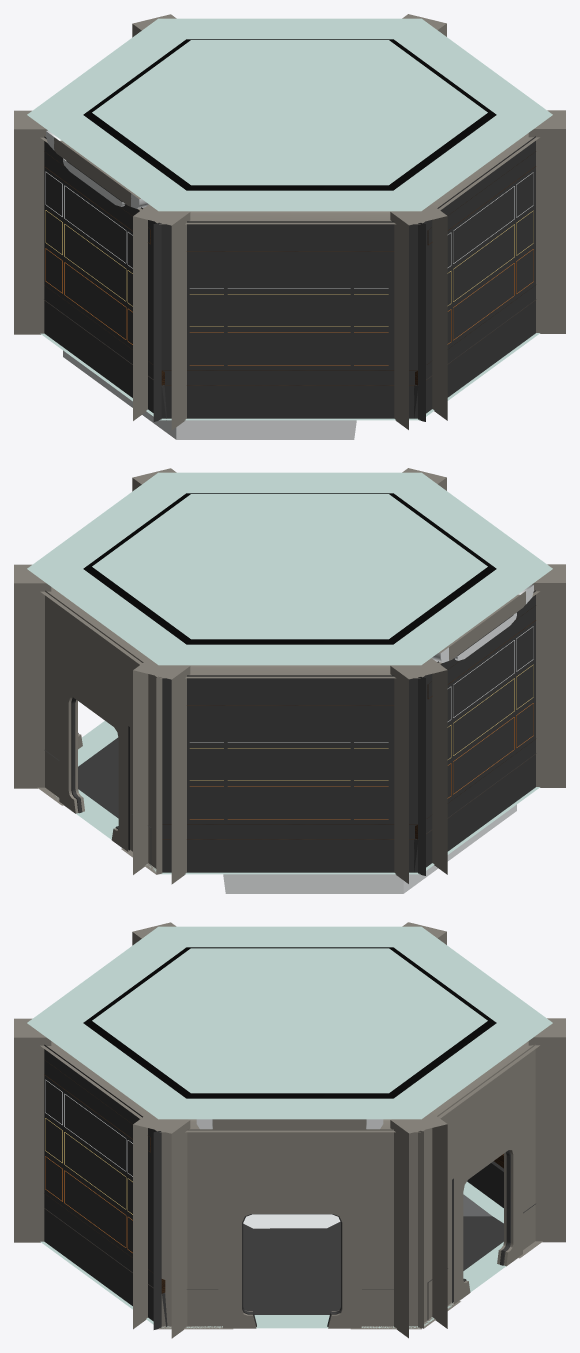
Rendered from Room02.fbx.
3 views of the same model, one above another, from view 1: azimuth 30°, elevation 25°; view 2: azimuth 150°, elevation 25°; view 3: azimuth 270°, elevation 25° (orthographic).
Parts seen in each view (by area): view 1: RoomBase02, Wall02_2, Wall02_4, Wall02_1, Ceiling02, Ceiling02_Add; view 2: RoomBase02, Wall02_3, Wall02_1, WallDoor02_2, Ceiling02, Ceiling02_Add; view 3: RoomBase02, WallDoor02_1, Wall02_4, WallDoor02_2, Ceiling02, Ceiling02_Add, Wall02_3.
Boxes of the visible parts, <box> form: RoomBase02: <box>14,14,565,439</box>; Wall02_2: <box>161,221,417,418</box>; Wall02_4: <box>414,136,536,421</box>; Wall02_1: <box>44,136,166,421</box>; Ceiling02: <box>40,130,539,224</box>; Ceiling02_Add: <box>83,39,496,190</box>; RoomBase02: <box>14,468,565,893</box>; Wall02_3: <box>162,675,417,872</box>; Wall02_1: <box>414,590,536,875</box>; WallDoor02_2: <box>37,590,162,874</box>; Ceiling02: <box>40,584,539,678</box>; Ceiling02_Add: <box>83,493,496,644</box>; RoomBase02: <box>14,922,565,1338</box>; WallDoor02_1: <box>158,1129,421,1329</box>; Wall02_4: <box>44,1044,167,1329</box>; WallDoor02_2: <box>418,1044,542,1328</box>; Ceiling02: <box>40,1041,539,1132</box>; Ceiling02_Add: <box>83,947,496,1098</box>; Wall02_3: <box>467,1154,503,1207</box>.
Bounding box in the file's own units: 95.85 × 51.57 × 106.
